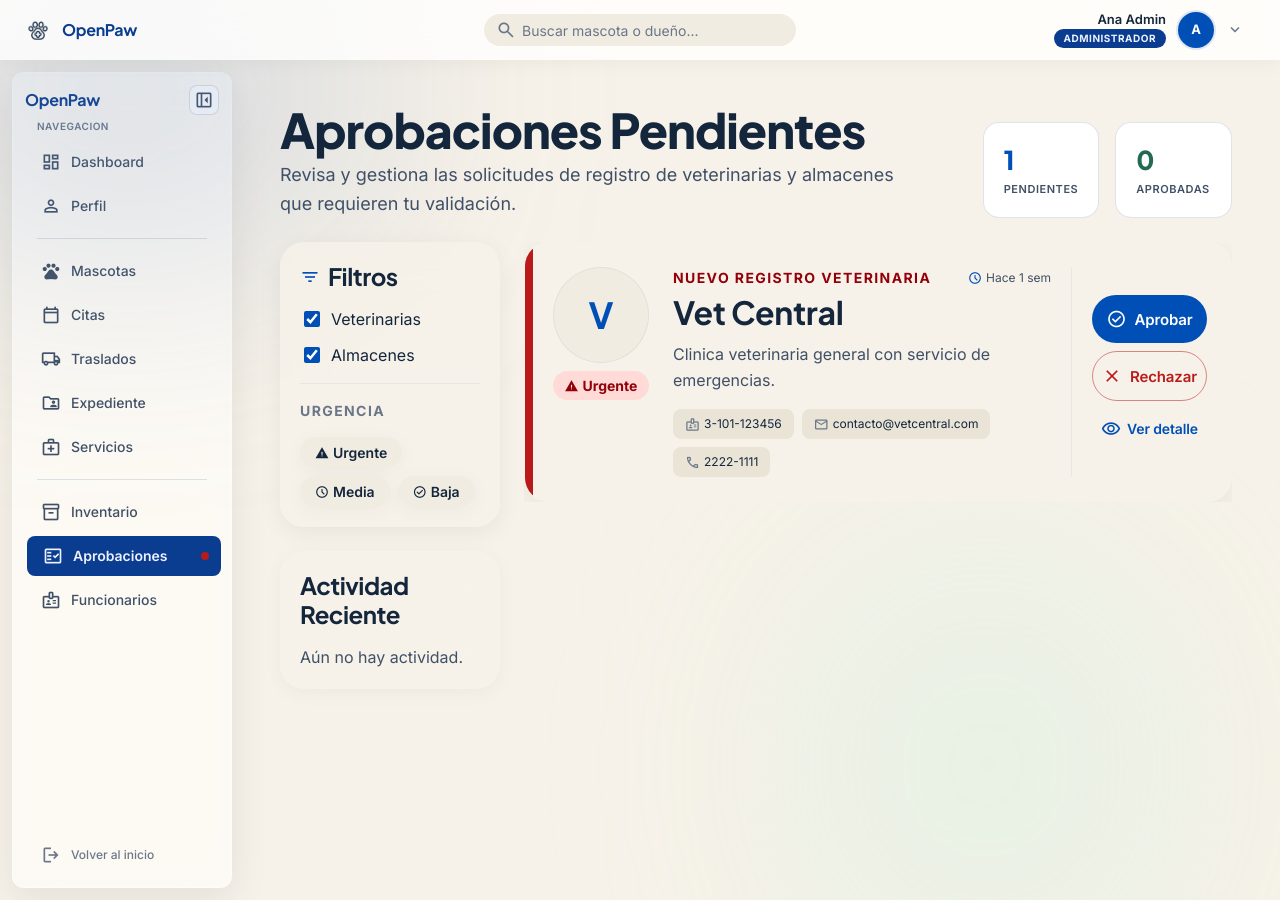
ApprovalsListPage - feed de cards con urgencia y animacion (T33) › Ver detalle abre el modal con la informacion del comercio
The image size is (1280, 900).
Click the button "Ver detalle" at (1150, 429), box 1092,409 -> 1207,449
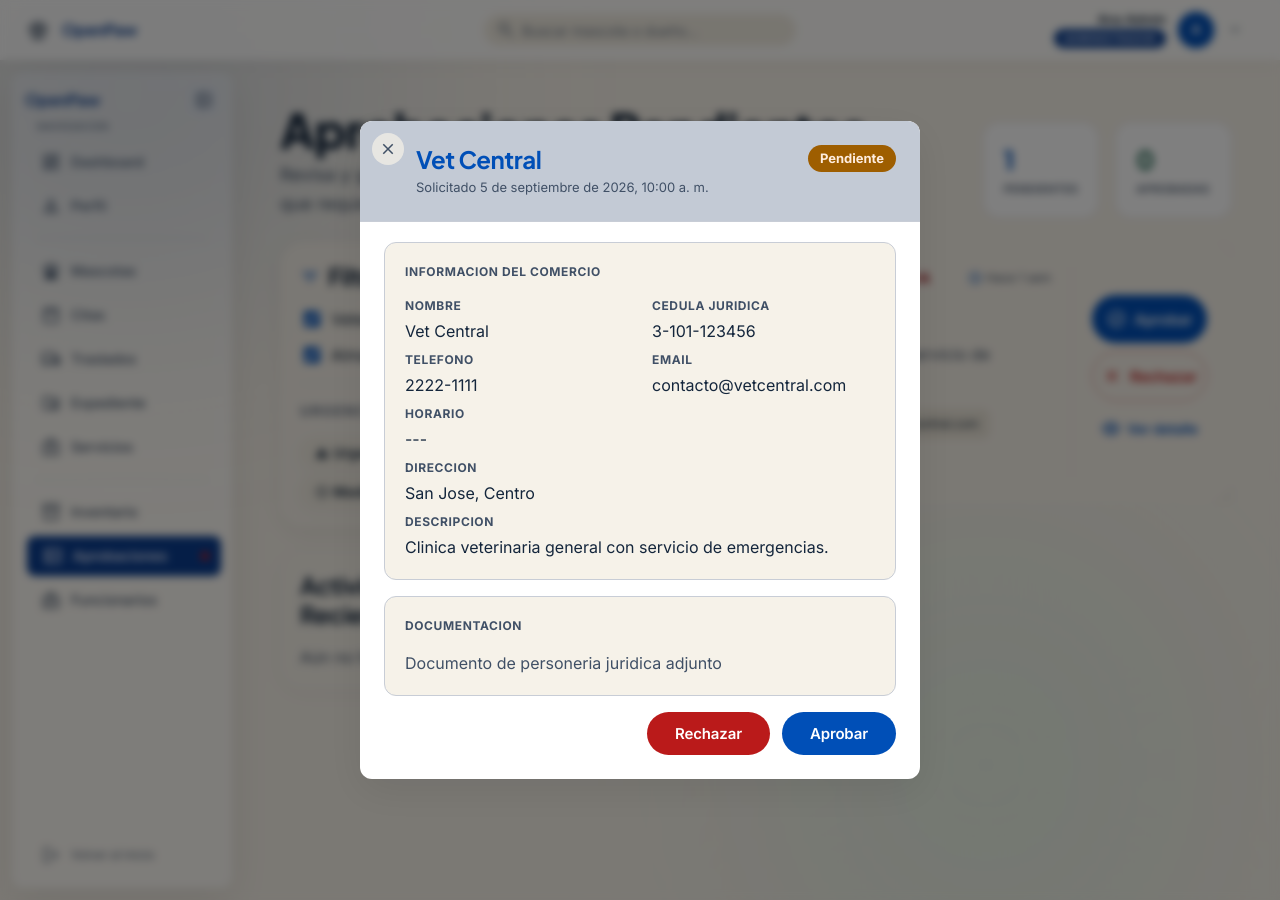
Check: the heading "Vet Central" is shown, box 416,144 -> 541,174
Check: the text "3-101-123456" is shown, box 652,321 -> 756,341
Check: the text "Documento de personeria juridica adjunto" is shown, box 405,653 -> 722,673
